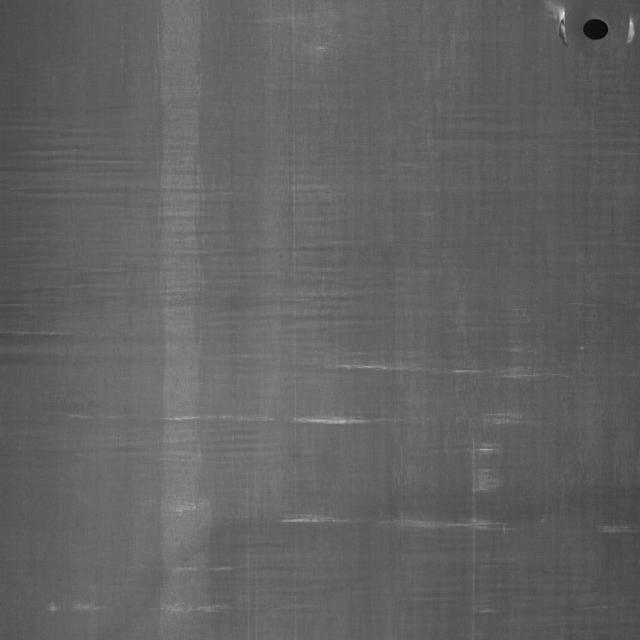crescent_gap: (580, 10, 612, 46)
